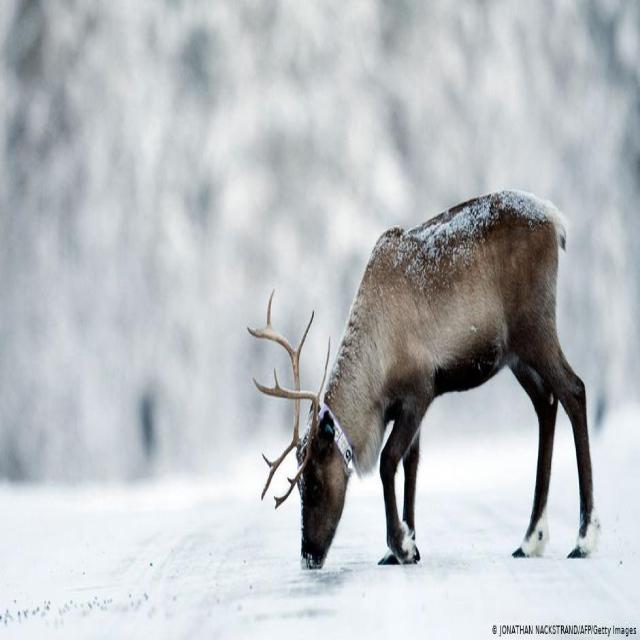Reindeer: (242, 164, 605, 583)
